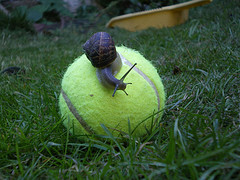tennis ball: (54, 45, 170, 148)
